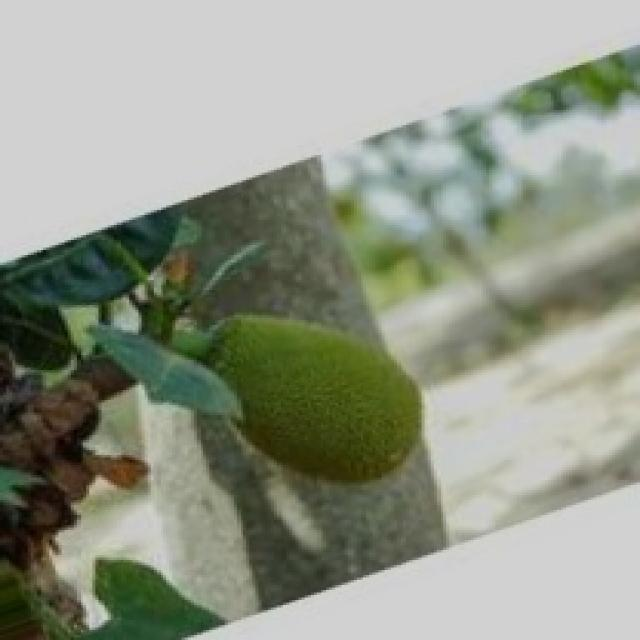Fruit: (176, 278, 456, 520)
